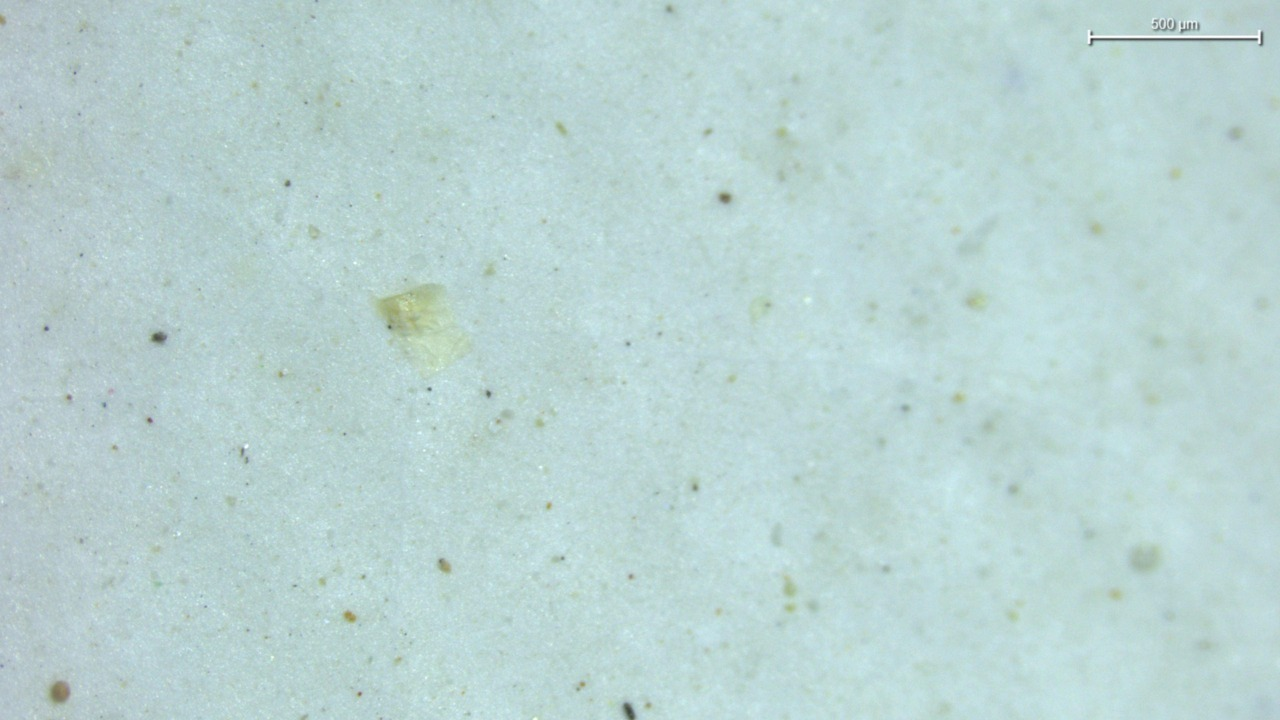microplastic_fragment: (376, 284, 469, 373)
